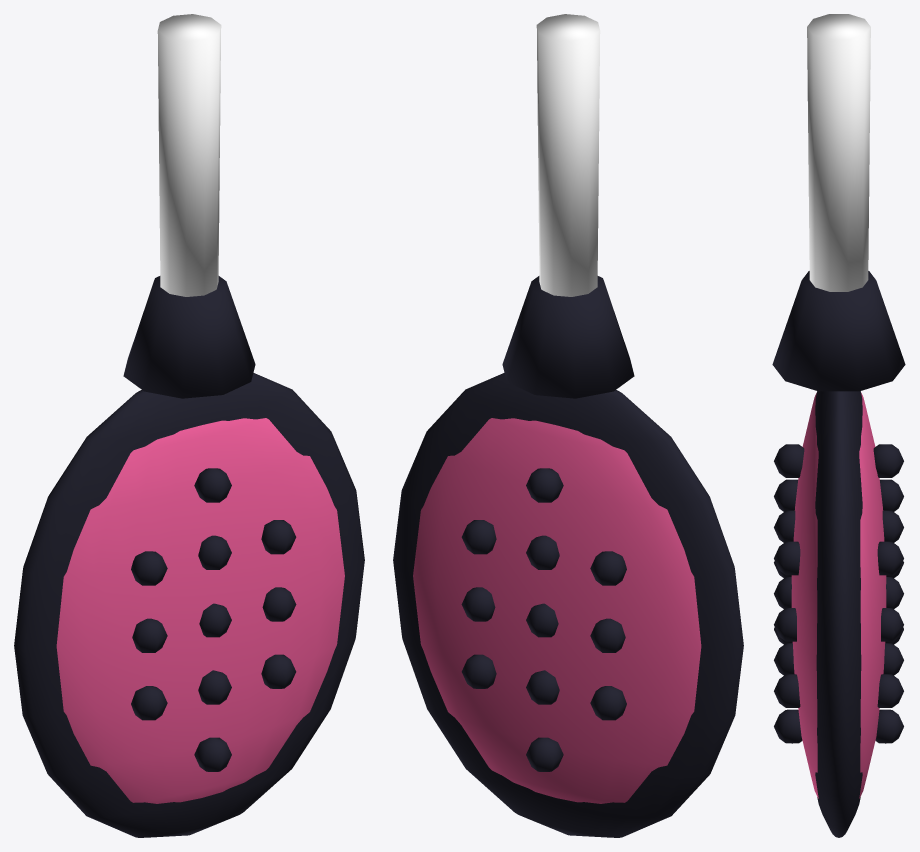
The model's file is racket.glb.
The picture shows the model from 3 angles, left to right: view 1: azimuth 30°, elevation 25°; view 2: azimuth 150°, elevation 25°; view 3: azimuth 270°, elevation 25°; orthographic projection.
Visible parts, largest first — view 1: Racket; view 2: Racket; view 3: Racket.
Part boxes in pixels (x1,y1,x2,y2): Racket: (14,14,364,837); Racket: (393,14,743,837); Racket: (772,14,905,837).
Bounding box in the file's own units: 0.3 × 0.66 × 0.1.
